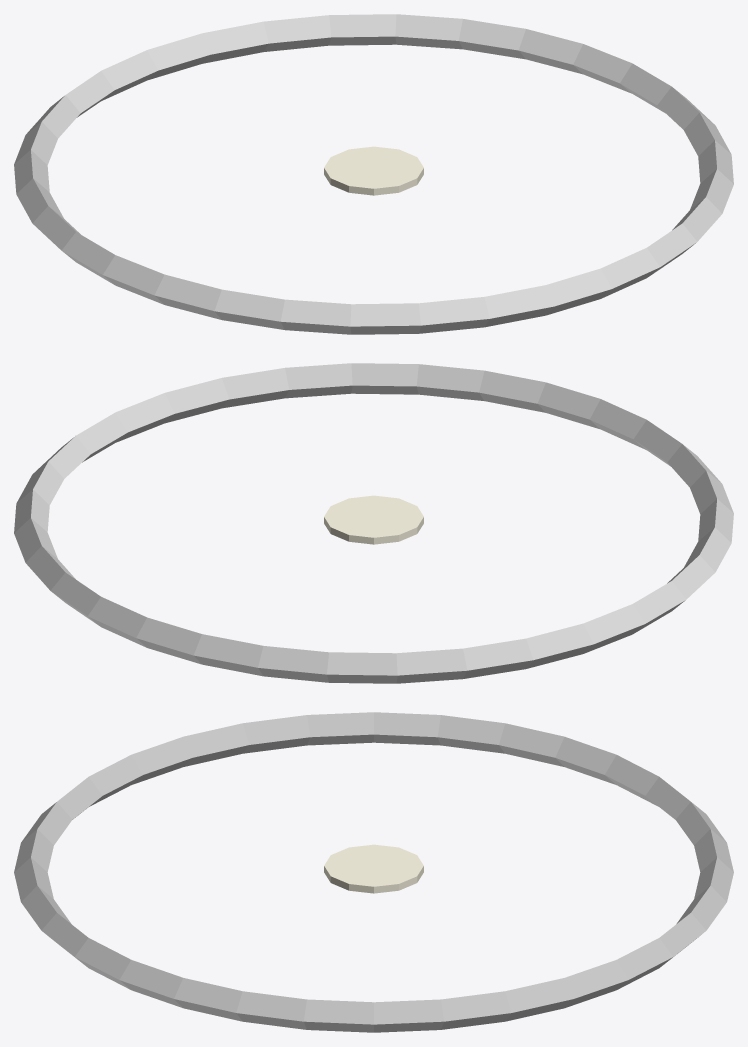
Rendered from marca_garra.glb.
3 views of the same model, one above another, from view 1: azimuth 30°, elevation 25°; view 2: azimuth 150°, elevation 25°; view 3: azimuth 270°, elevation 25° (orthographic).
Parts seen in each view (by area): view 1: marca_garra; view 2: marca_garra; view 3: marca_garra.
Boxes of the visible parts, x1,y1,x2,y2 form: marca_garra: (14,14,733,334); marca_garra: (14,363,733,683); marca_garra: (14,712,733,1032).
Size of the model in its own units: 1.15 by 0.054 by 1.15.
